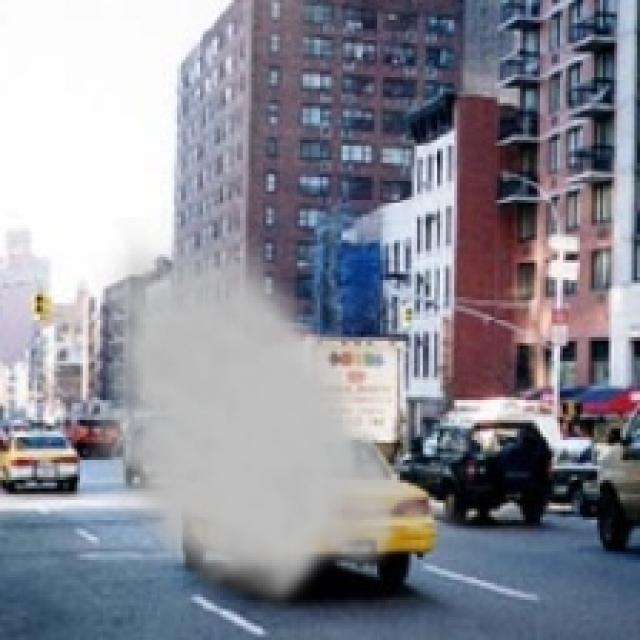Smoke: (86, 217, 474, 617)
